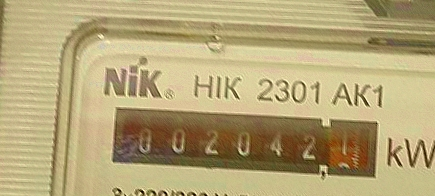0: (136, 122, 155, 153), (235, 125, 254, 156), (170, 123, 188, 154)
1: (337, 125, 352, 156)
2: (203, 125, 222, 155), (301, 129, 319, 159)
4: (268, 125, 287, 158)
screen: (108, 101, 385, 185)
